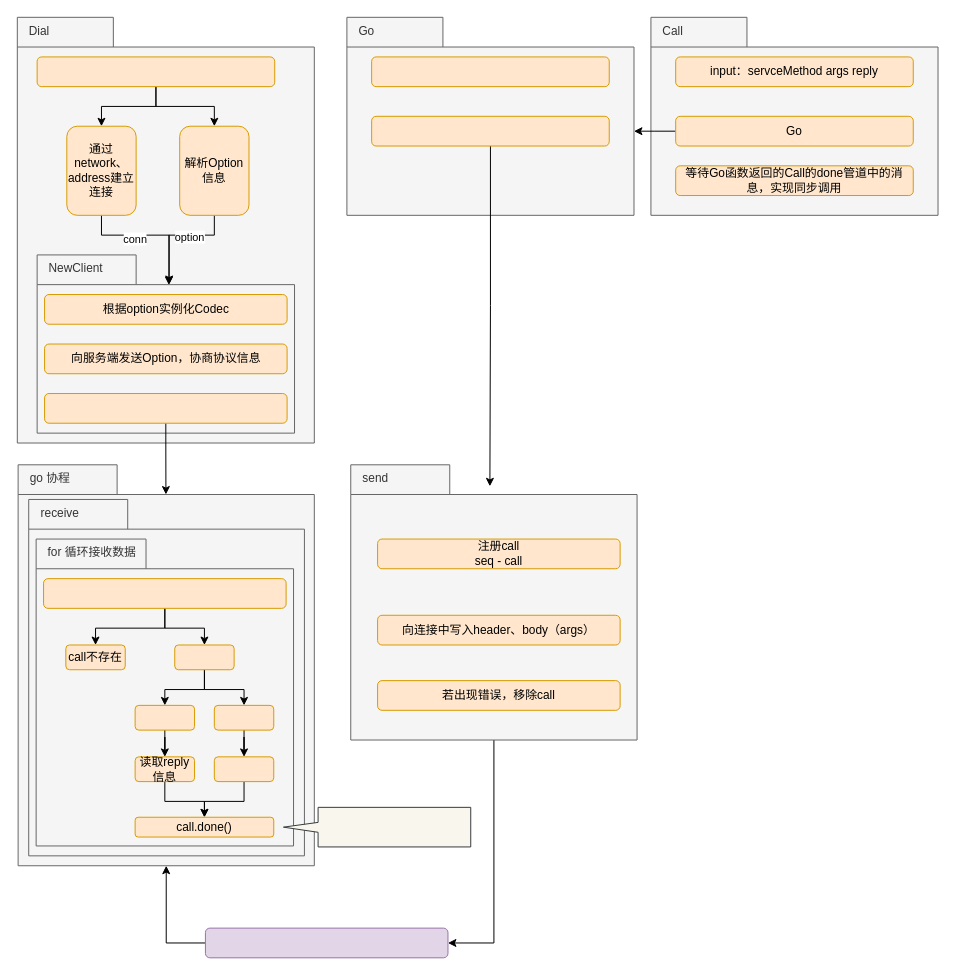
This 955x975 diagram has some shape labels left out. The centre of each missing label's shape, as x and y in pixels:
call存在: (204,657)
input：network address Option: (155,71)
input：servceMethod args reply done: (490,71)
map[uint64]*Call: (326,942)
实例化Client: (165,408)
服务端 出现错误: (243,717)
构建Call: (490,130)
正常处理: (164,717)
读取连接header信息，根据header中的seq获取并移除对应的call: (164,593)
读取错误信息: (243,769)
调用完成，触发回调: (376,826)
